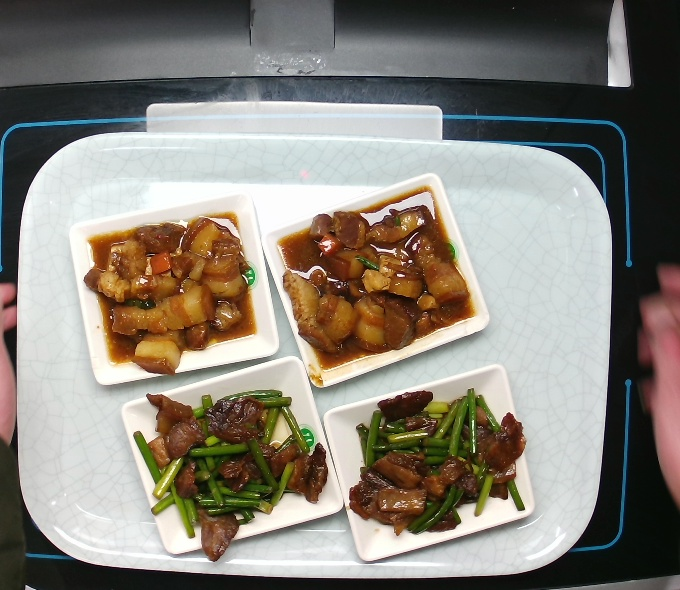wcq-HongShaoRou: (277, 196, 475, 361), (81, 212, 257, 380)
wcq-SuanMiaoChaoRou: (126, 376, 333, 569), (346, 380, 528, 539)
